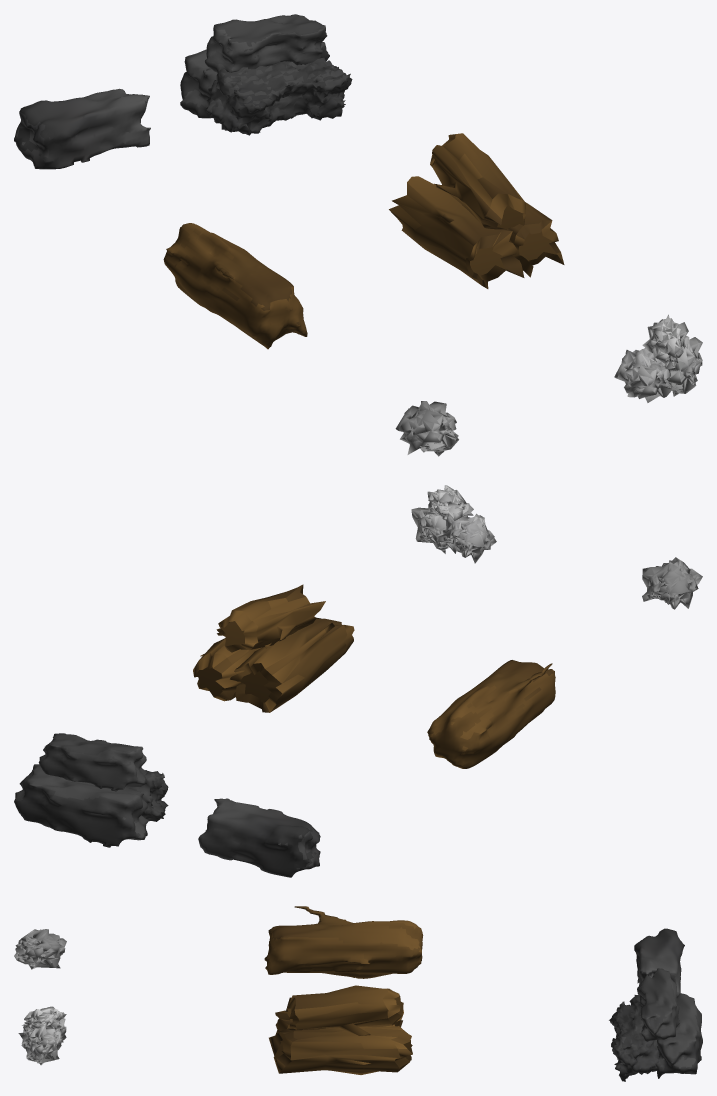
Rendered from SimpleResources.fbx.
3 views of the same model, one above another, from view 1: azimuth 30°, elevation 25°; view 2: azimuth 150°, elevation 25°; view 3: azimuth 270°, elevation 25° (orthographic). The views are drawn at different scales.
Visible parts, largest first — view 1: MediumStone, MediumWood, SmallWood, SmallStone, MediumIron, SmallIron; view 2: MediumWood, MediumStone, SmallWood, SmallStone, MediumIron, SmallIron; view 3: MediumWood, SmallWood, MediumStone, MediumIron, SmallStone, SmallIron.
Boxes of the visible parts, left/top/right/bottom form: MediumStone: left=180, top=14, right=352, bottom=135; MediumWood: left=389, top=133, right=564, bottom=288; SmallWood: left=163, top=223, right=307, bottom=349; SmallStone: left=14, top=88, right=150, bottom=169; MediumIron: left=614, top=314, right=702, bottom=402; SmallIron: left=395, top=401, right=458, bottom=456; MediumWood: left=193, top=584, right=354, bottom=712; MediumStone: left=14, top=733, right=168, bottom=847; SmallWood: left=427, top=660, right=555, bottom=768; SmallStone: left=198, top=798, right=320, bottom=877; MediumIron: left=411, top=485, right=496, bottom=563; SmallIron: left=642, top=557, right=702, bottom=609; MediumWood: left=269, top=985, right=412, bottom=1074; SmallWood: left=264, top=906, right=423, bottom=978; MediumStone: left=609, top=968, right=702, bottom=1081; MediumIron: left=18, top=1006, right=66, bottom=1065; SmallStone: left=634, top=928, right=684, bottom=996; SmallIron: left=14, top=929, right=66, bottom=969.
Size of the model in its own units: 655 by 199 by 1478.
